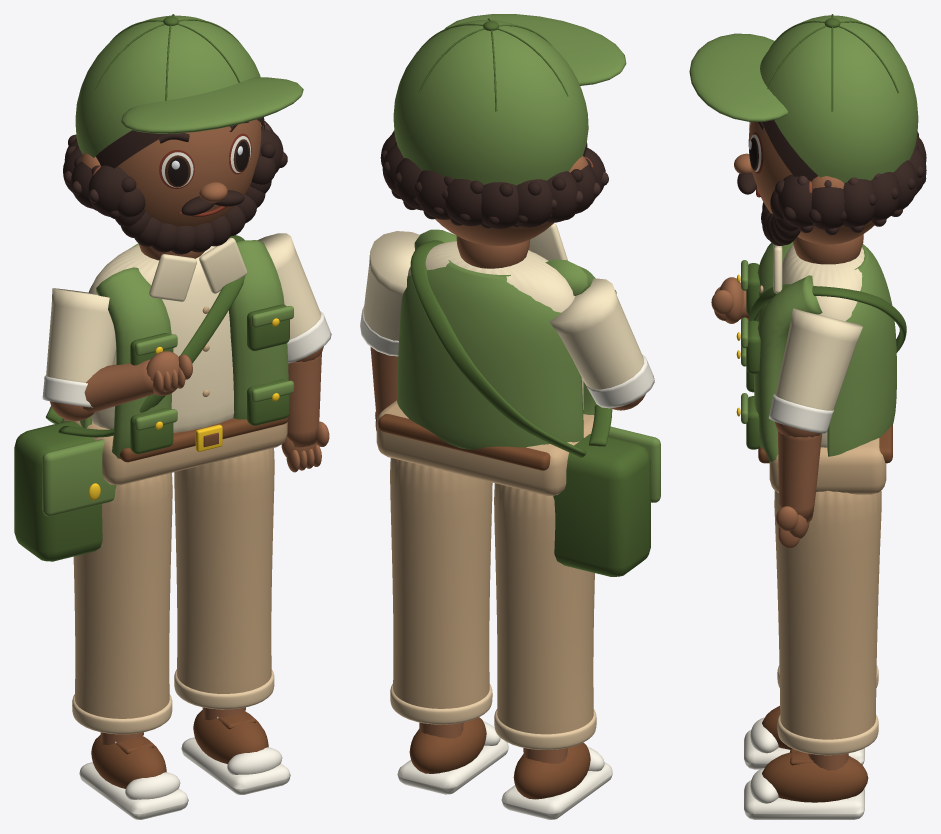
Rendered from community_guide.glb.
3 renders of one model, left to right at view 1: azimuth 30°, elevation 25°; view 2: azimuth 150°, elevation 25°; view 3: azimuth 270°, elevation 25°, orthographic. The views are drawn at different scales.
Parts seen in each view (by area): view 1: trouser_1, trouser_-1, hair_scalp.001, cream_shirt, head_surface, satchel, cap_brim, vest_front_1, shirt_sleeve_-1, vest_front_-1, trouser_waist, satchel_flap (+28 smaller); view 2: hair_scalp.001, vest_back, trouser_1, trouser_-1, satchel, shirt_sleeve_-1, trouser_waist, satchel_strap, cap_brim, shirt_sleeve_1, cream_shirt, boot_1_upper (+23 smaller); view 3: trouser_1, hair_scalp.001, vest_back, shirt_sleeve_1, cap_brim, vest_front_1, boot_1_upper, trouser_waist, forearm_1, cream_shirt, boot_1_sole, head_surface (+24 smaller).
Part boxes in pixels (left/top/right/bottom): trouser_1: left=174, top=448, right=274, bottom=693; trouser_-1: left=73, top=473, right=172, bottom=718; hair_scalp.001: left=75, top=15, right=260, bottom=157; cream_shirt: left=89, top=244, right=234, bottom=432; head_surface: left=117, top=119, right=261, bottom=226; satchel: left=14, top=420, right=102, bottom=561; cap_brim: left=121, top=77, right=303, bottom=133; vest_front_1: left=229, top=240, right=288, bottom=419; shirt_sleeve_-1: left=46, top=288, right=116, bottom=382; vest_front_-1: left=96, top=267, right=171, bottom=458; trouser_waist: left=63, top=419, right=287, bottom=485; satchel_flap: left=42, top=439, right=116, bottom=516; hair_scalp.001: left=393, top=20, right=588, bottom=185; vest_back: left=397, top=260, right=583, bottom=449; trouser_1: left=390, top=458, right=492, bottom=708; trouser_-1: left=494, top=483, right=594, bottom=734; satchel: left=553, top=434, right=650, bottom=576; shirt_sleeve_-1: left=549, top=278, right=644, bottom=389; trouser_waist: left=376, top=400, right=594, bottom=495; satchel_strap: left=410, top=240, right=612, bottom=457; cap_brim: left=445, top=14, right=626, bottom=85; shirt_sleeve_1: left=363, top=231, right=419, bottom=340; cream_shirt: left=408, top=241, right=583, bottom=409; boot_1_upper: left=409, top=717, right=486, bottom=773; trouser_1: left=774, top=490, right=881, bottom=739; hair_scalp.001: left=760, top=15, right=918, bottom=183; vest_back: left=827, top=244, right=896, bottom=456; shirt_sleeve_1: left=775, top=308, right=862, bottom=410; cap_brim: left=689, top=33, right=787, bottom=121; vest_front_1: left=754, top=275, right=822, bottom=463; boot_1_upper: left=762, top=751, right=868, bottom=802; trouser_waist: left=769, top=438, right=886, bottom=494; forearm_1: left=777, top=430, right=821, bottom=522; cream_shirt: left=782, top=244, right=864, bottom=447; boot_1_sole: left=744, top=780, right=864, bottom=819; head_surface: left=748, top=122, right=874, bottom=244.
Size of the model in its own units: 0.6767 by 1.7 by 0.4776.
